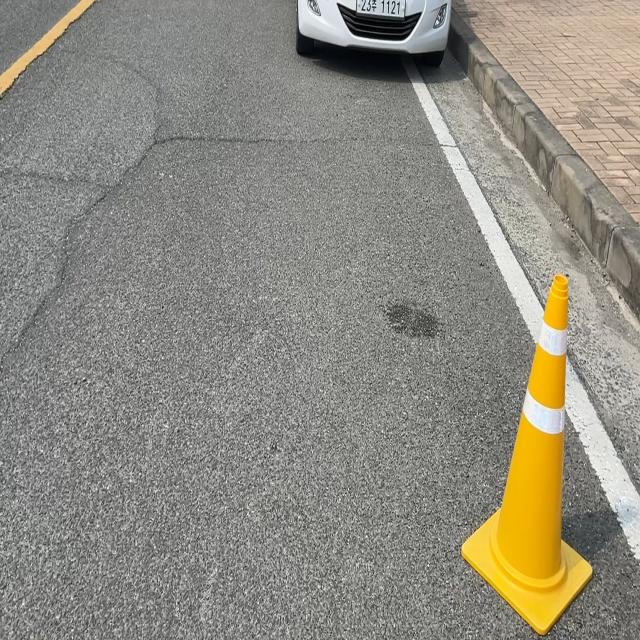y_rub: (463, 274, 594, 635)
